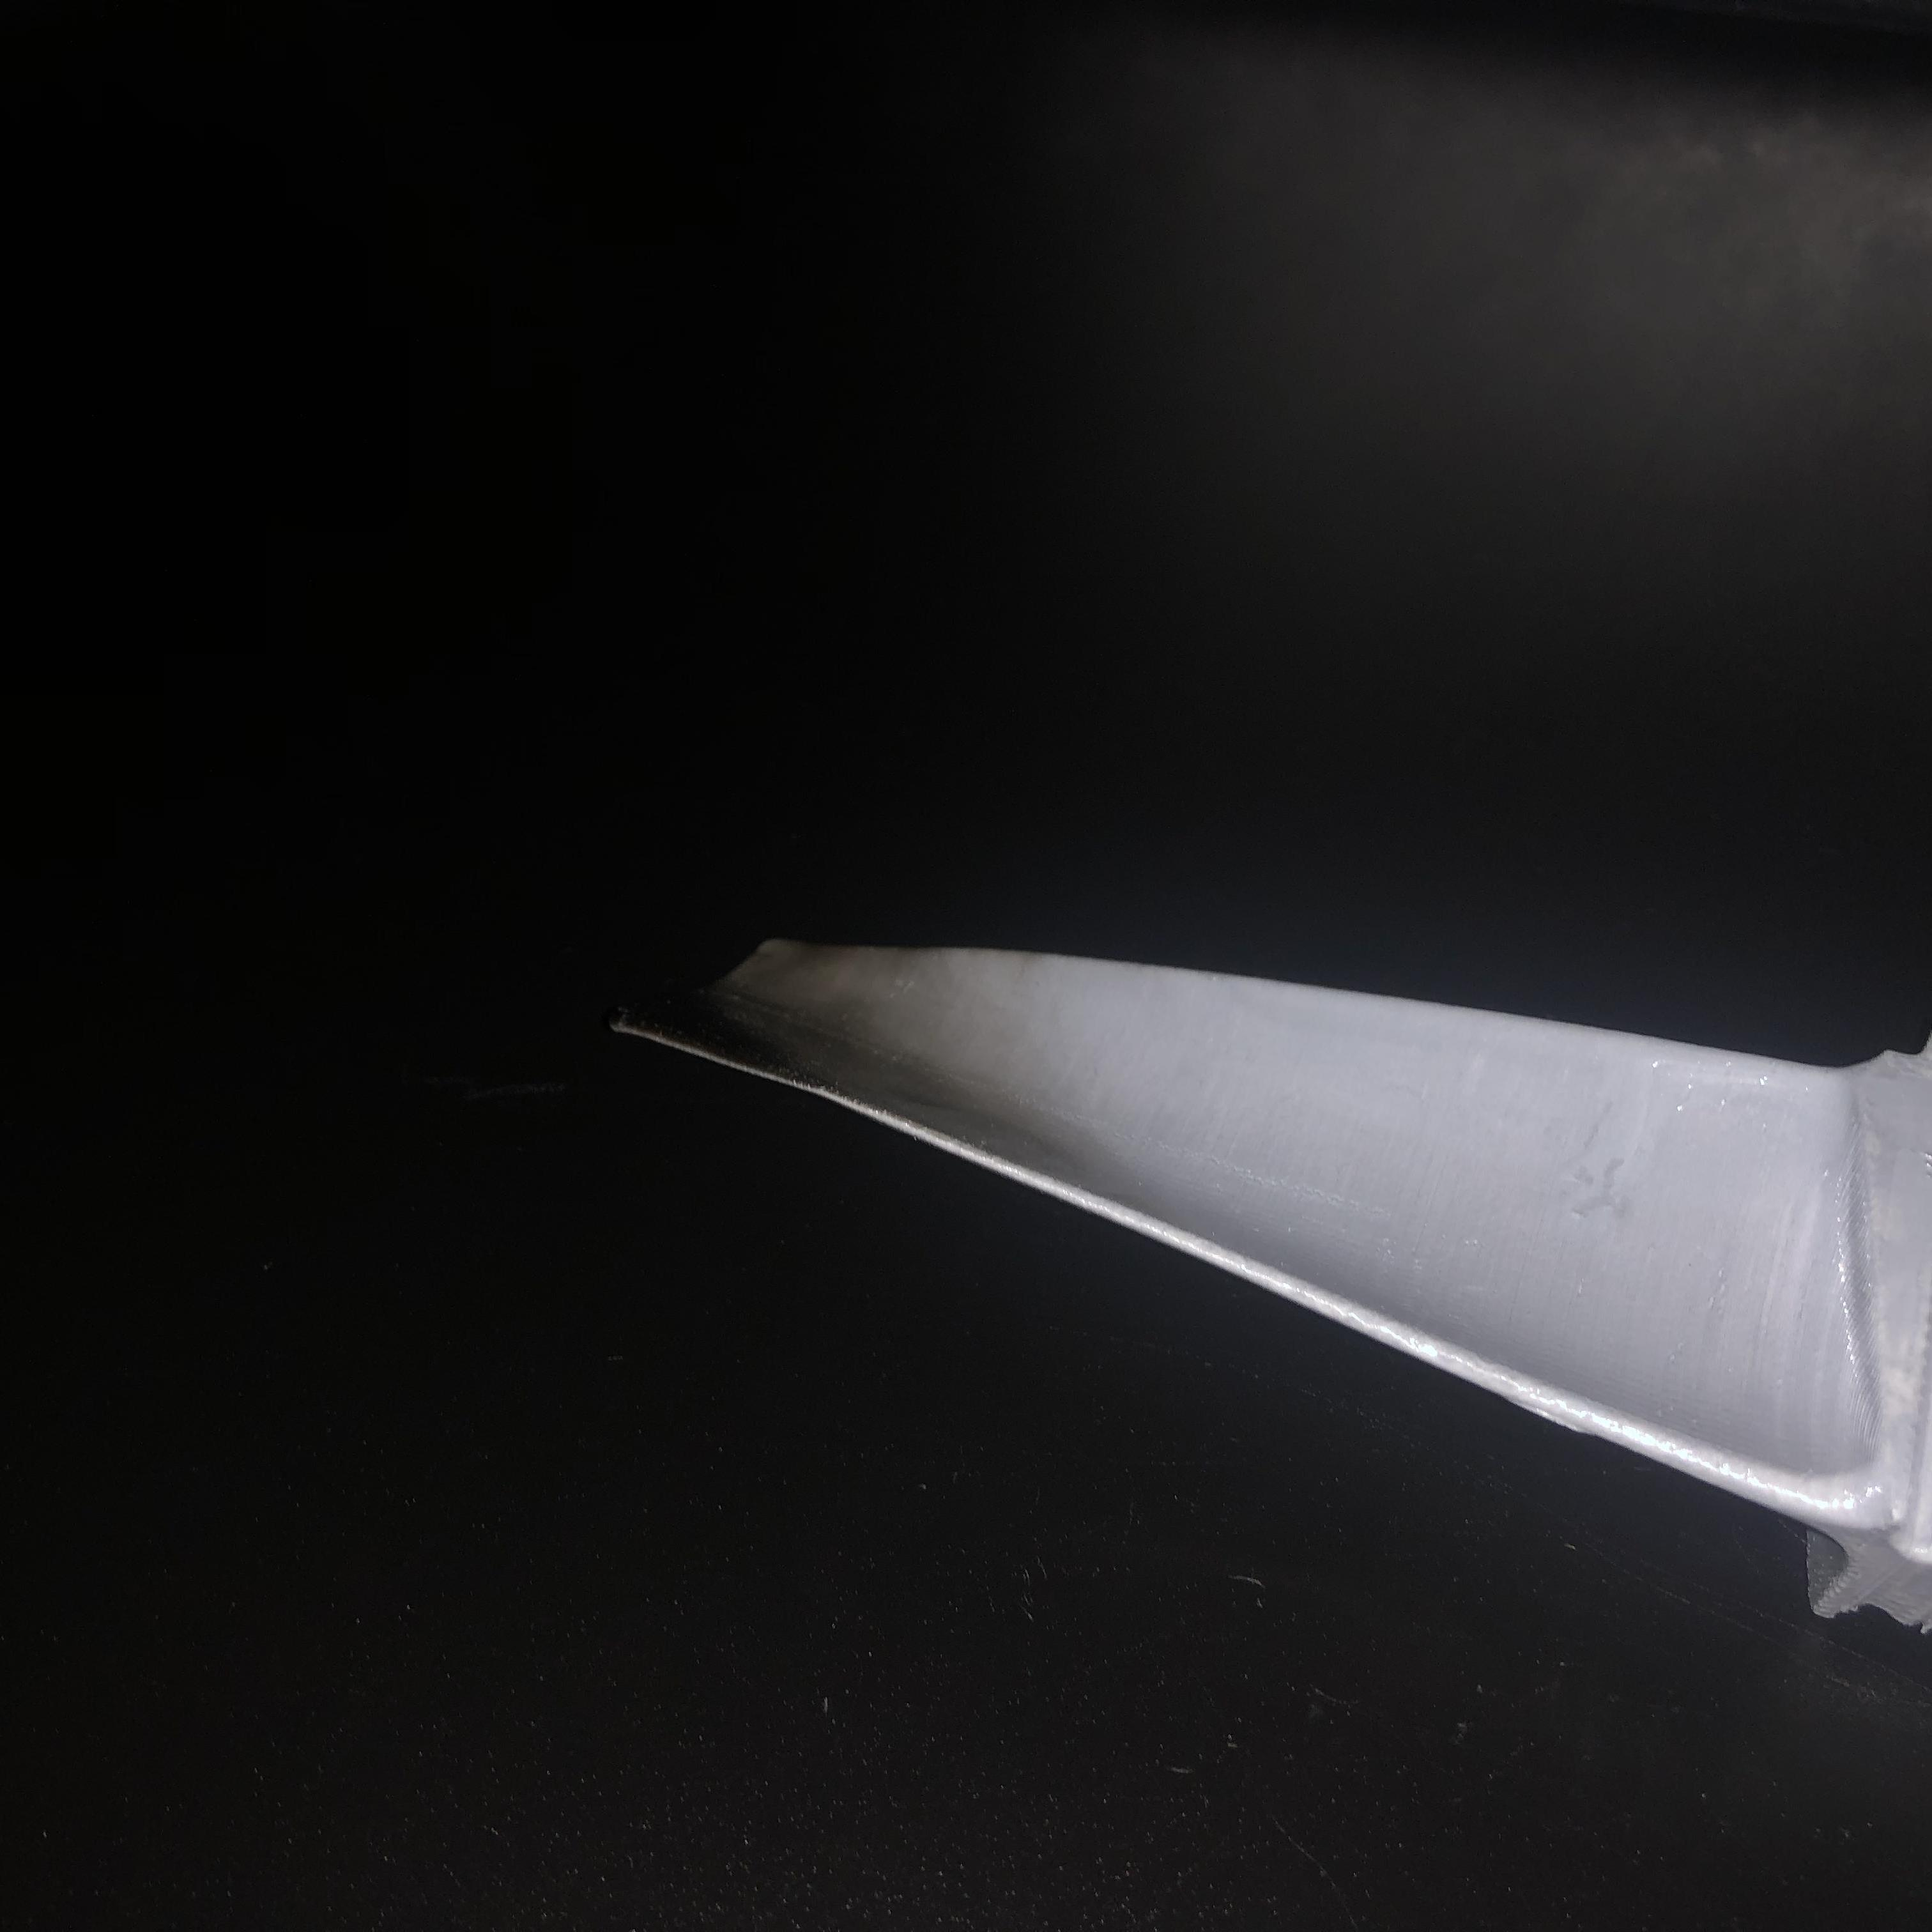ablation: (632, 939, 1007, 1136)
